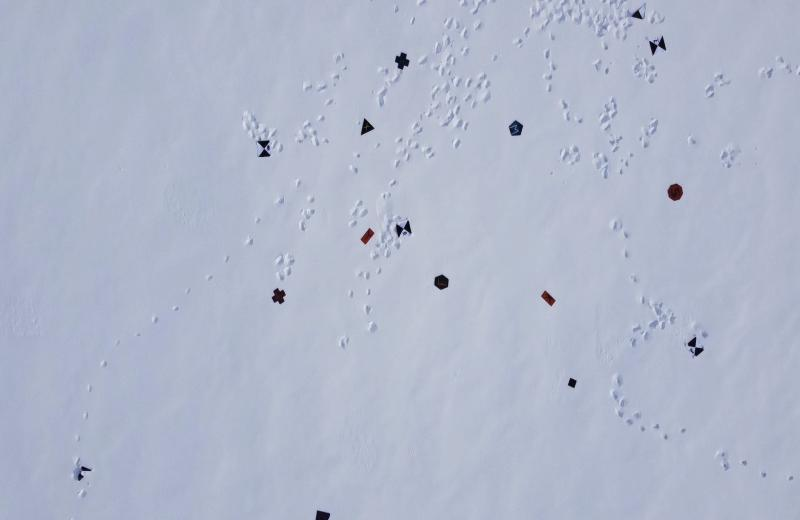Cross: (270, 286, 288, 306), (394, 52, 410, 72)
Hexagon: (432, 273, 450, 292)
Octagon: (666, 183, 684, 203)
Pentagon: (508, 119, 524, 138)
Quarter Circle: (314, 507, 331, 520)
Rectangle: (358, 226, 376, 247), (541, 289, 557, 309)
Square: (567, 376, 578, 390)
Triangle: (358, 118, 376, 136)
